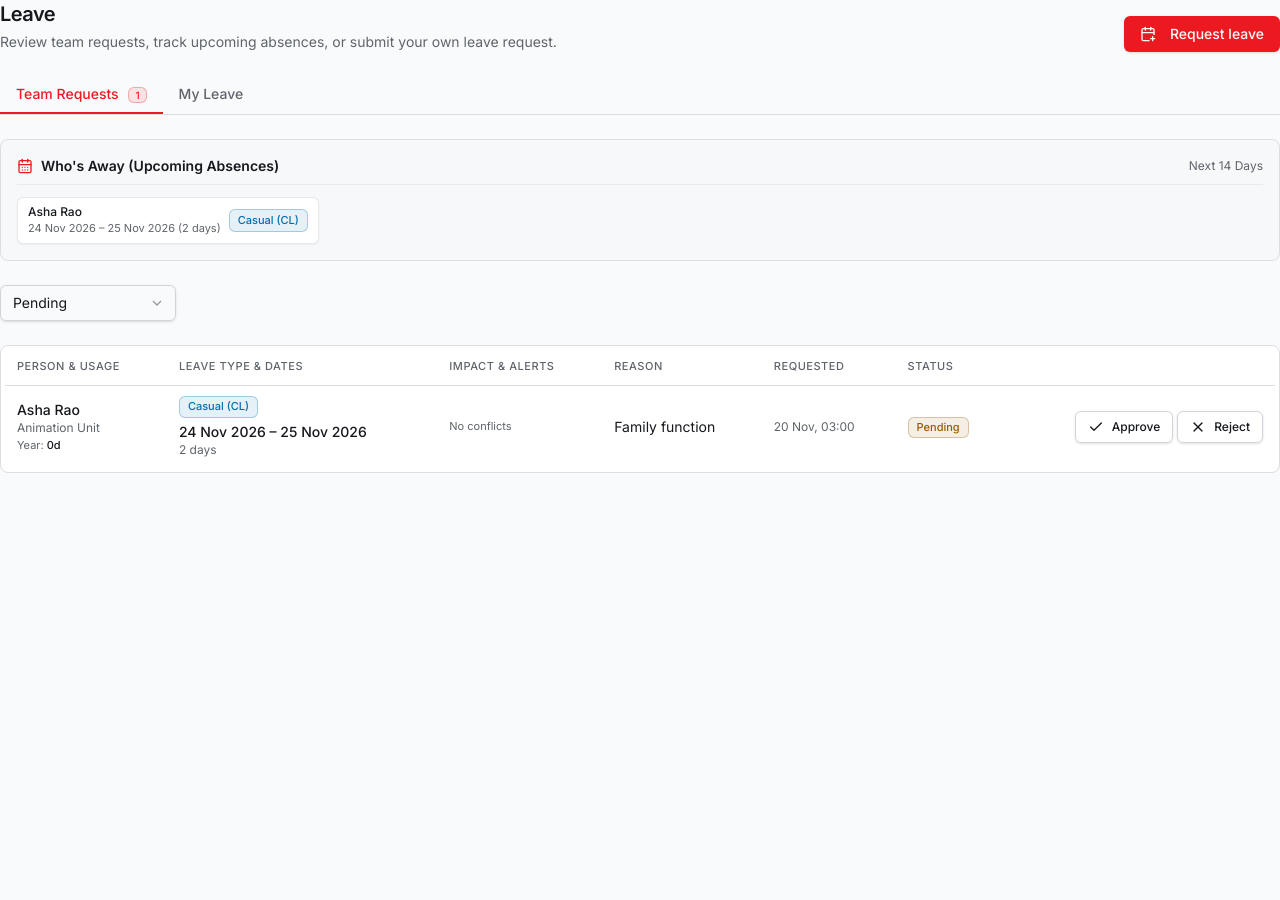
three roles: admin, team lead, artist › a lead rejects leave only with a note
Later steps or results of the test are not shown.
Click the button with aria-label "Reject leave for Asha Rao": click(1220, 427) x1=1177 y1=411 x2=1263 y2=443
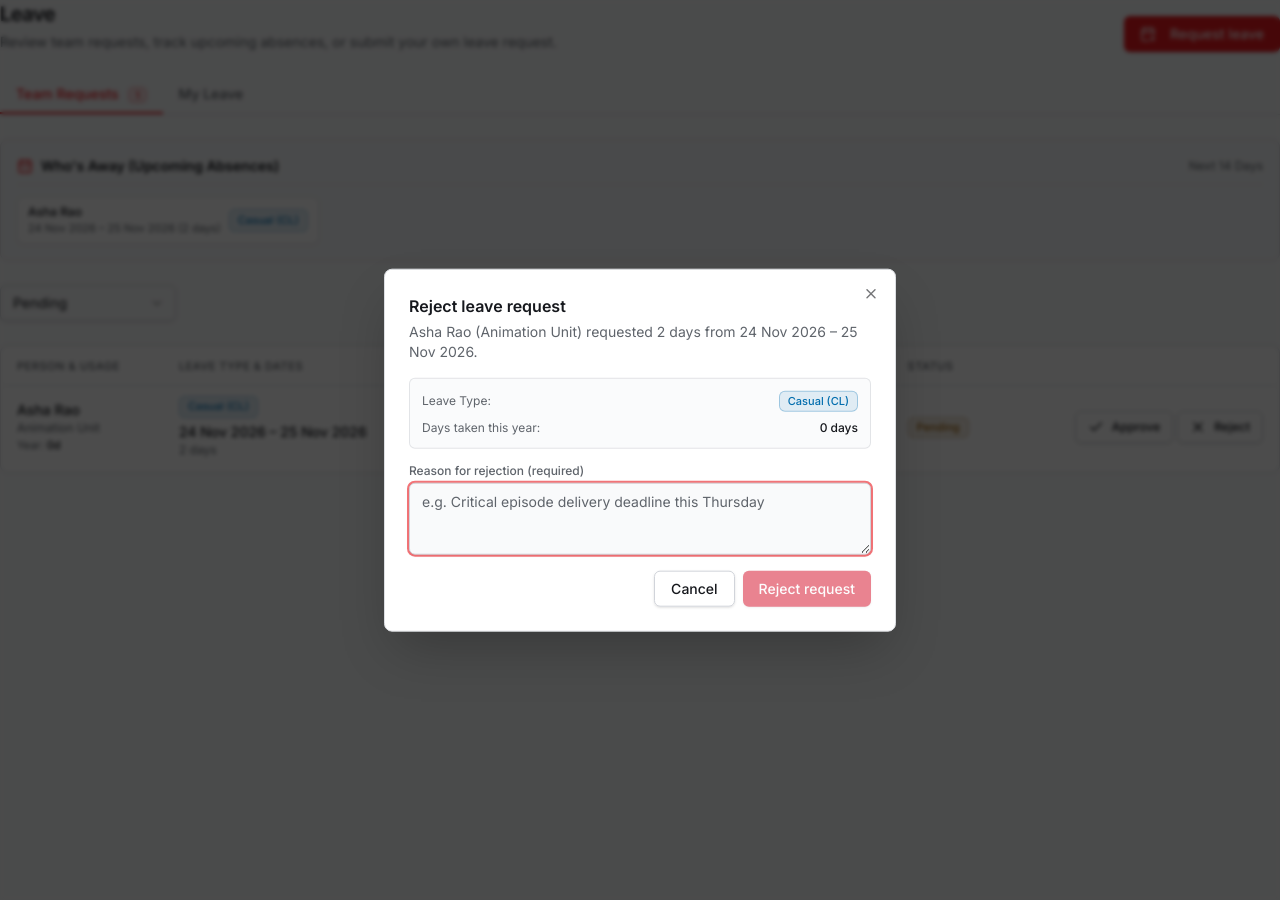
Result: the button "Reject request" is disabled at x1=743 y1=570 x2=871 y2=606
